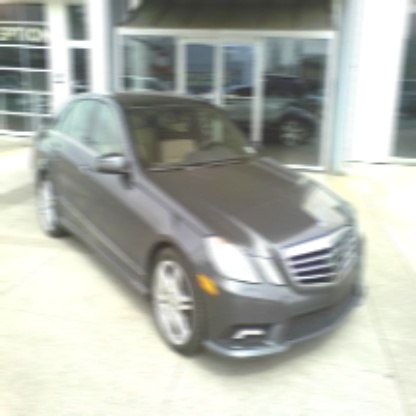Vehicle: (29, 89, 367, 364)
